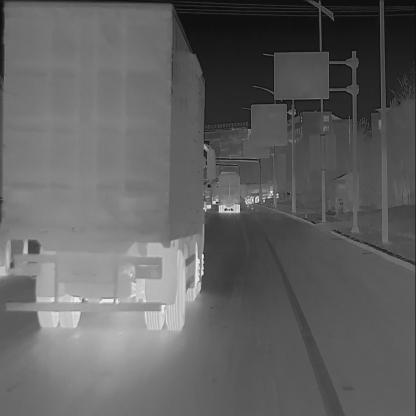truck: (2, 0, 208, 337), (200, 140, 218, 212), (216, 168, 241, 216), (239, 180, 279, 204)
